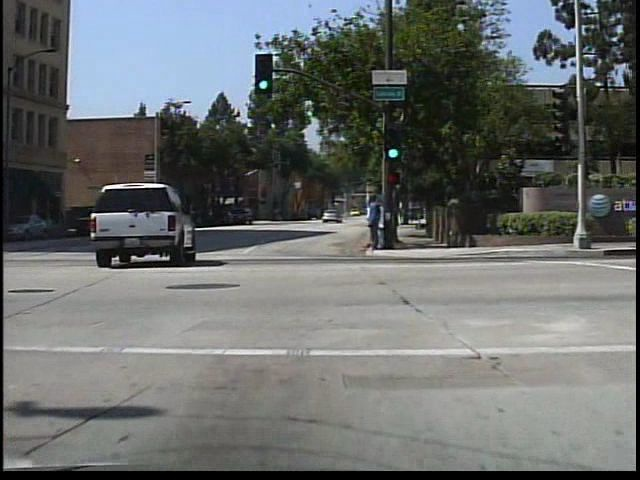person: (361, 192, 383, 251), (371, 196, 389, 249)
